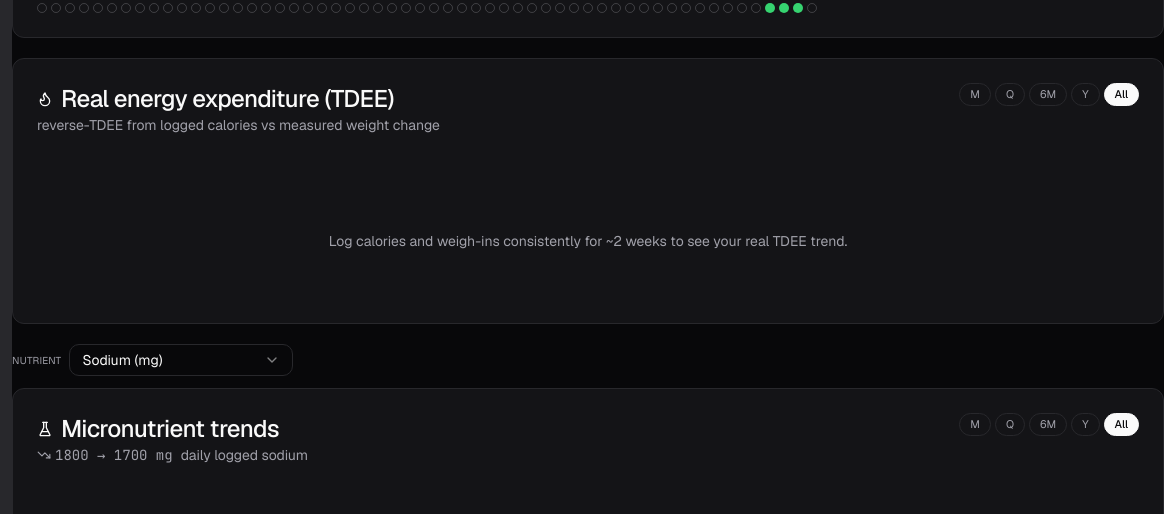
Test: NutritionIntakeHistory › picking a different nutrient charts that nutrient's series (in its unit)
This screenshot has width=1164, height=514.
(page scrolled)
Click the dropdown named "Micronutrient".
click(181, 360)  # box x1=69 y1=344 x2=293 y2=376
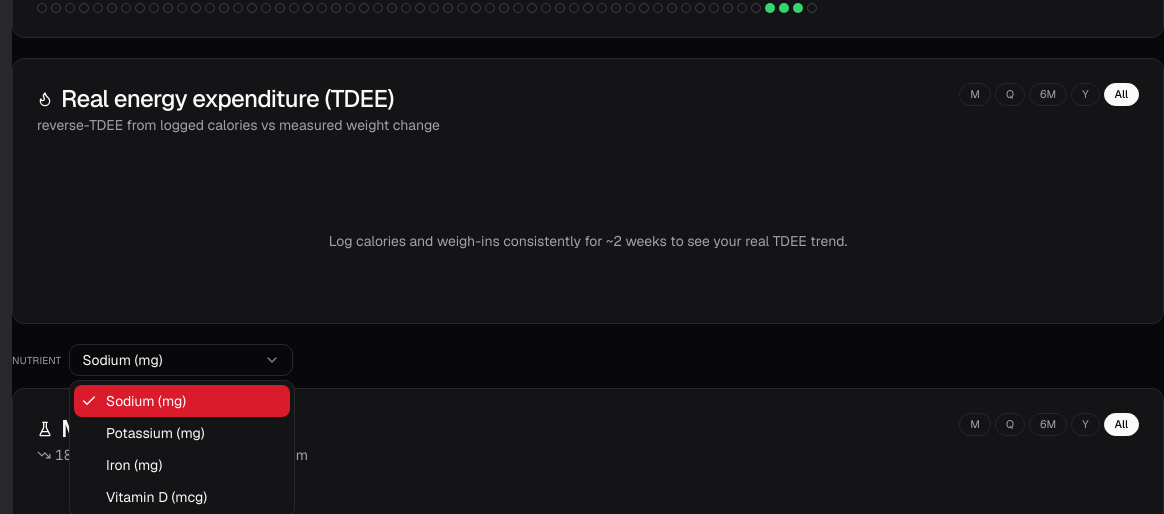
Expected: the option "Iron (mg)" is shown
Click the option "Iron (mg)".
click(134, 465)  # box x1=106 y1=456 x2=162 y2=474
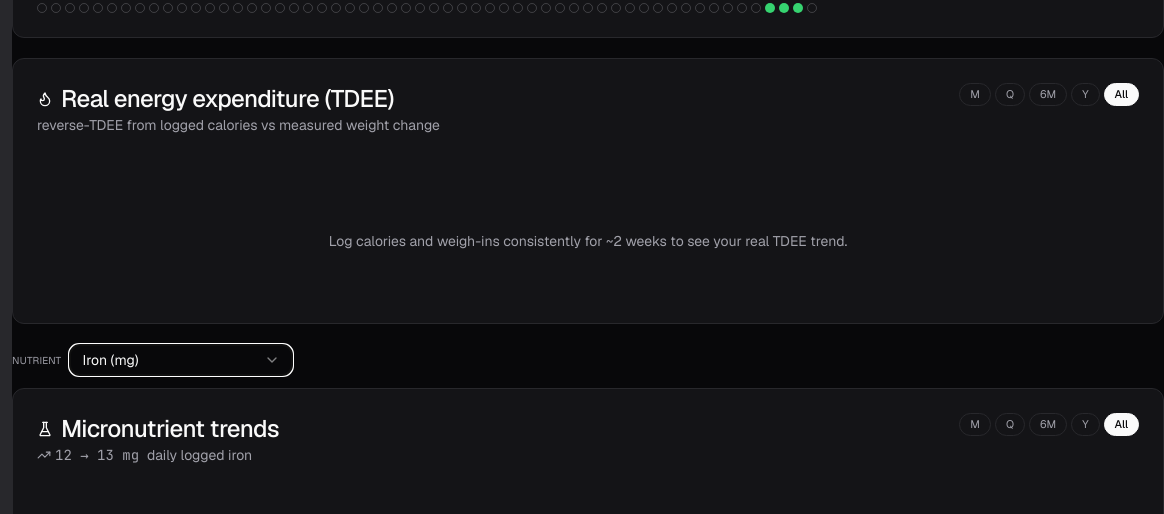
Expected: the text "daily logged iron" is shown, x1=147 y1=445 x2=252 y2=465
